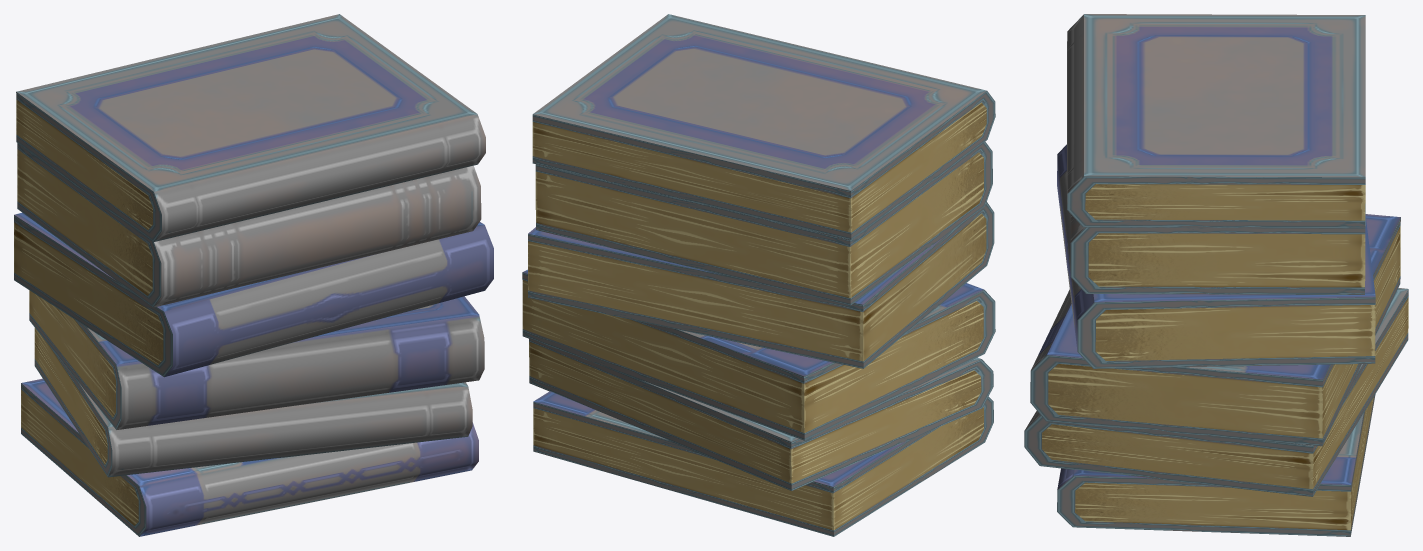
File: Book_Stack_3.fbx
3 views of the same model, side by side, from view 1: azimuth 30°, elevation 25°; view 2: azimuth 150°, elevation 25°; view 3: azimuth 270°, elevation 25° (orthographic). The views are drawn at different scales.
Visible parts, largest first — view 1: Book_Stack_3; view 2: Book_Stack_3; view 3: Book_Stack_3.
Boxes of the visible parts, x1,y1,x2,y2 form: Book_Stack_3: (14, 14, 493, 536); Book_Stack_3: (522, 14, 995, 536); Book_Stack_3: (1024, 14, 1408, 536).
Bounding box in the file's own units: 31.39 × 27.82 × 27.04.
